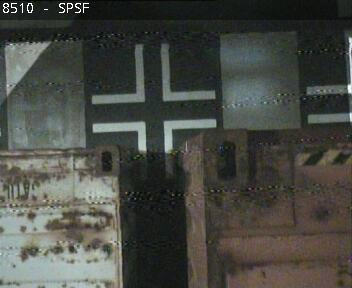groundmarker_1: (93, 120, 217, 177), (92, 47, 216, 103)
